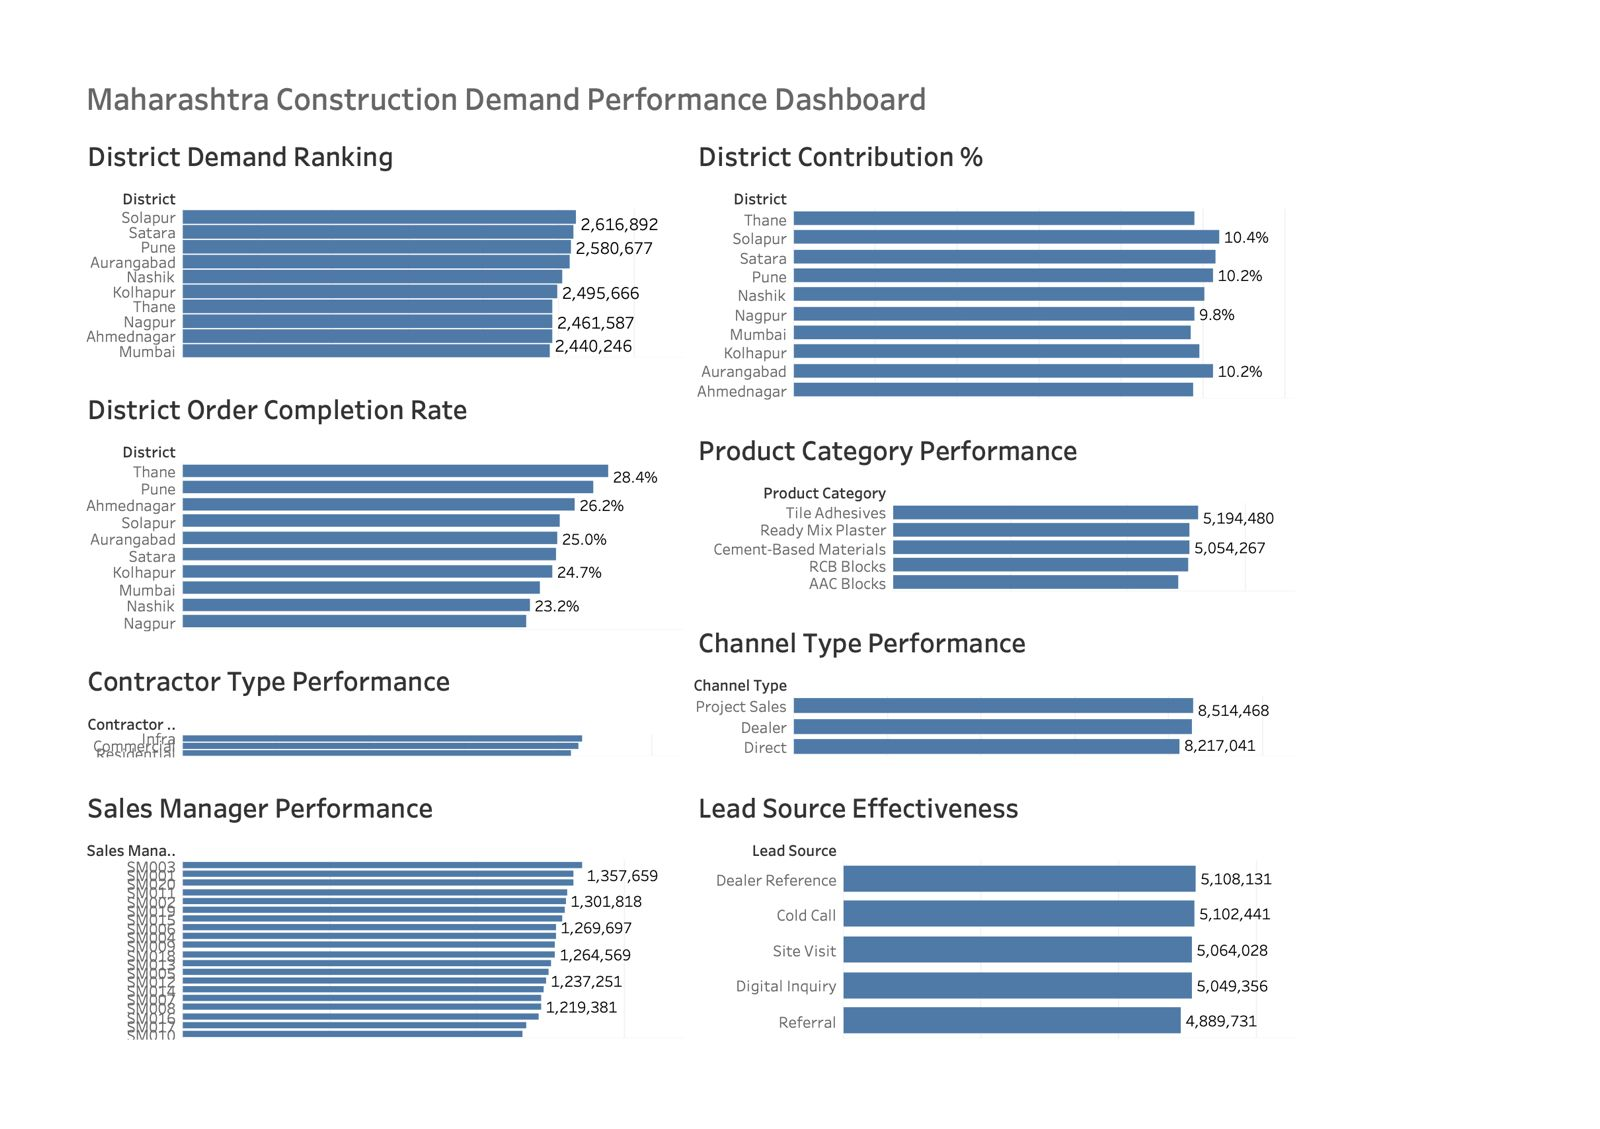

Layout of this report page (visuals, bound fields, positions):
{"tool":"tableau","page":{"name":"Maharashtra Construction Demand Performance Dashboard","canvas":[1000,800],"ordinal":0},"visuals":[{"type":"text","box":[8,8,984,32]},{"type":"worksheet","title":"District Demand Ranking","mark":"Bar","rows":["District"],"cols":["Calculation_878905658111868928"],"box":[8,40,492,204]},{"type":"worksheet","title":"District Contribution %","mark":"Automatic","rows":["District"],"cols":["Calculation_878905658112376834"],"box":[500,40,492,237]},{"type":"worksheet","title":"District Order Completion Rate","mark":"Bar","rows":["District"],"cols":["Calculation_922323173284020224"],"box":[8,244,492,219]},{"type":"worksheet","title":"Product Category Performance","mark":"Bar","rows":["Product Category"],"cols":["Calculation_878905658111868928"],"box":[500,277,492,155]},{"type":"worksheet","title":"Channel Type Performance","mark":"Bar","rows":["Channel Type"],"cols":["Calculation_878905658111868928"],"box":[500,432,492,133]},{"type":"worksheet","title":"Contractor Type Performance","mark":"Bar","rows":["Contractor Type"],"cols":["Calculation_878905658111868928"],"box":[8,463,492,102]},{"type":"worksheet","title":"Sales Manager Performance","mark":"Bar","rows":["Sales Manager Code"],"cols":["Calculation_878905658111868928"],"box":[8,565,492,227]},{"type":"worksheet","title":"Lead Source Effectiveness","mark":"Bar","rows":["Lead Source"],"cols":["Calculation_878905658111868928"],"box":[500,565,492,227]}]}

Visuals, with their boxes on the page's 1000x800 design canvas (x1, y1, x2, y2). These are canvas units, not pixel positions in the 1600x1129 screenshot, which may show the page scaled, cropped or inside an application window:
text: Rect(8, 8, 992, 40)
"District Demand Ranking" worksheet (Bar marks): Rect(8, 40, 500, 244)
"District Contribution %" worksheet: Rect(500, 40, 992, 277)
"District Order Completion Rate" worksheet (Bar marks): Rect(8, 244, 500, 463)
"Product Category Performance" worksheet (Bar marks): Rect(500, 277, 992, 432)
"Channel Type Performance" worksheet (Bar marks): Rect(500, 432, 992, 565)
"Contractor Type Performance" worksheet (Bar marks): Rect(8, 463, 500, 565)
"Sales Manager Performance" worksheet (Bar marks): Rect(8, 565, 500, 792)
"Lead Source Effectiveness" worksheet (Bar marks): Rect(500, 565, 992, 792)
